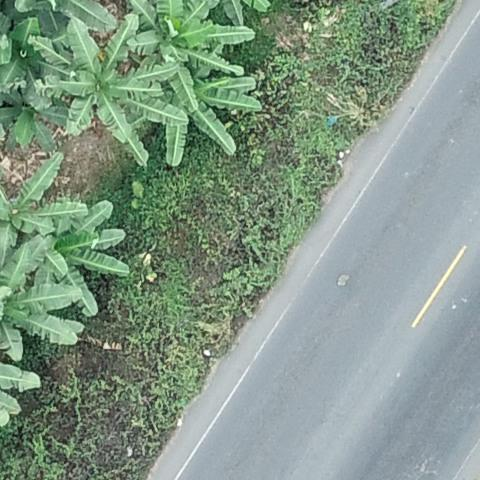Banana-plant: (34, 22, 169, 164), (22, 199, 135, 314), (147, 54, 257, 166), (0, 152, 86, 262), (146, 0, 252, 84), (0, 72, 66, 151)
